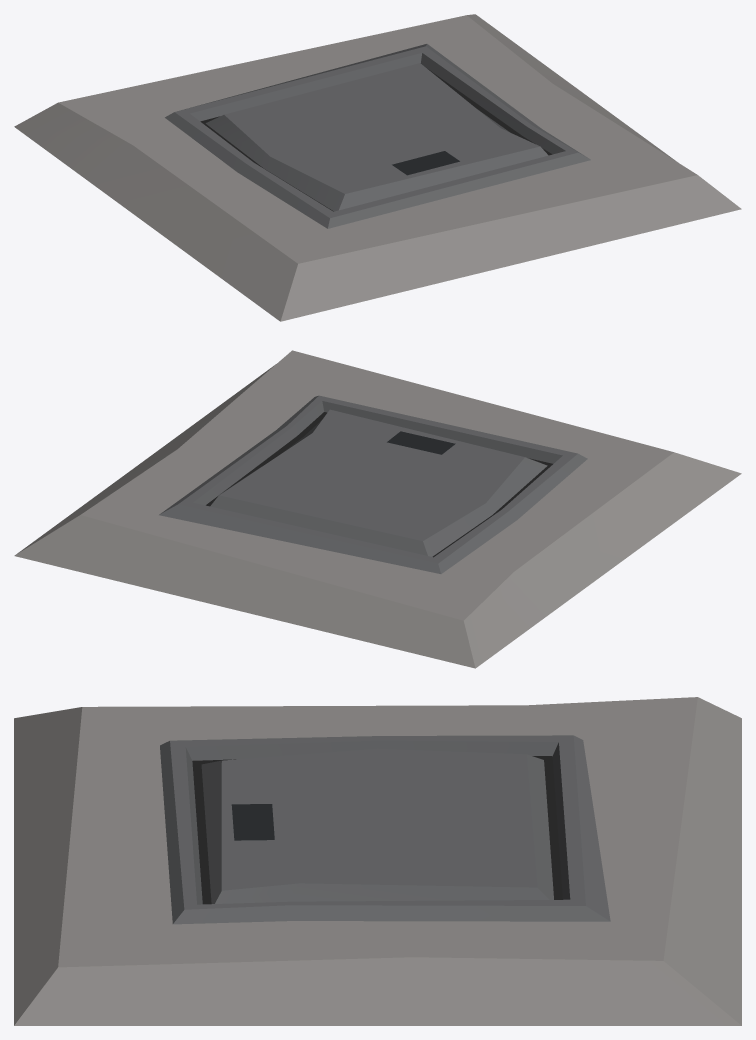
File: SM_Prop_Sidewalk_Panel_05.fbx
The picture shows the model from 3 angles, top to bottom: view 1: azimuth 30°, elevation 25°; view 2: azimuth 150°, elevation 25°; view 3: azimuth 270°, elevation 25°; orthographic projection. The views are drawn at different scales.
Parts seen in each view (by area): view 1: SM_Prop_Sidewalk_Panel_05; view 2: SM_Prop_Sidewalk_Panel_05; view 3: SM_Prop_Sidewalk_Panel_05.
Boxes of the visible parts, x1,y1,x2,y2 form: SM_Prop_Sidewalk_Panel_05: (14, 14, 741, 321); SM_Prop_Sidewalk_Panel_05: (14, 350, 741, 668); SM_Prop_Sidewalk_Panel_05: (14, 697, 741, 1025).
Size of the model in its own units: 74.45 by 5.81 by 74.45.
